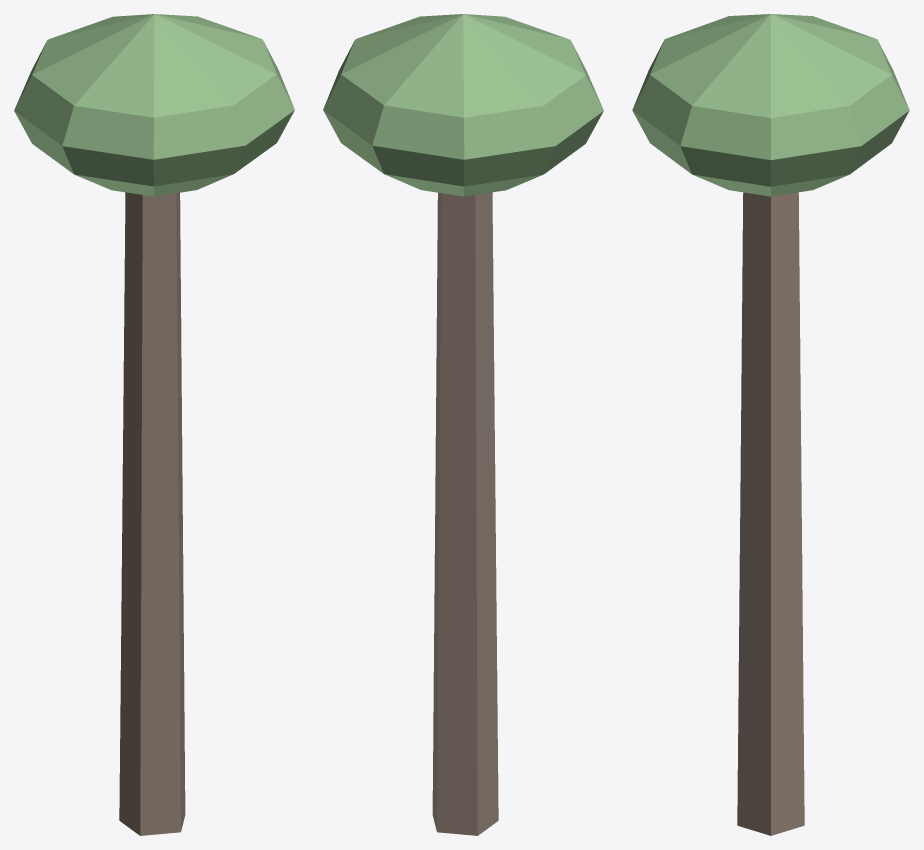
File: tree-palm-fan-a-far.glb
3 views of the same model, side by side, from view 1: azimuth 30°, elevation 25°; view 2: azimuth 150°, elevation 25°; view 3: azimuth 270°, elevation 25° (orthographic).
Parts seen in each view (by area): view 1: tree-palm-fan-a-far; view 2: tree-palm-fan-a-far; view 3: tree-palm-fan-a-far.
Part boxes in pixels (x1,y1,x2,y2): tree-palm-fan-a-far: [14, 14, 294, 835]; tree-palm-fan-a-far: [323, 14, 603, 835]; tree-palm-fan-a-far: [632, 14, 909, 835].
Bounding box in the file's own units: 0.3113 × 1 × 0.3117.
